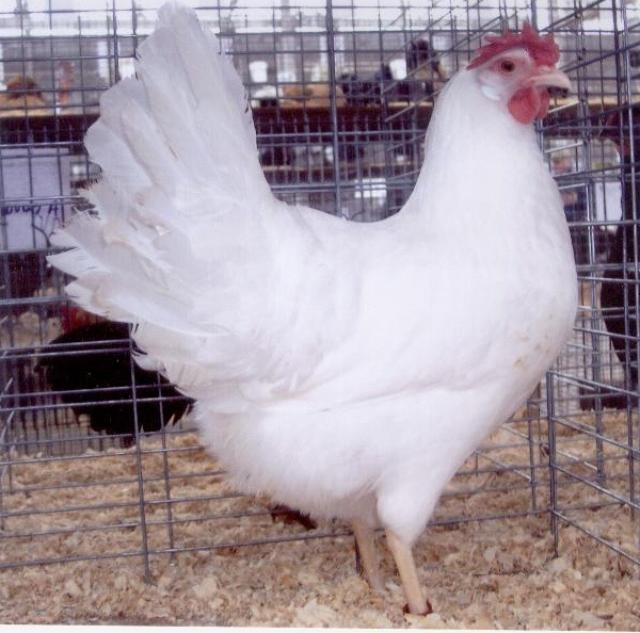Chicken: (47, 1, 581, 614)
